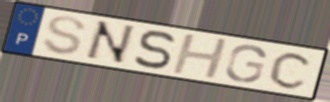C: (267, 50, 316, 90)
G: (223, 44, 268, 84)
H: (169, 33, 231, 80)
N: (81, 19, 139, 66)
S: (40, 15, 88, 57), (131, 29, 178, 71)
